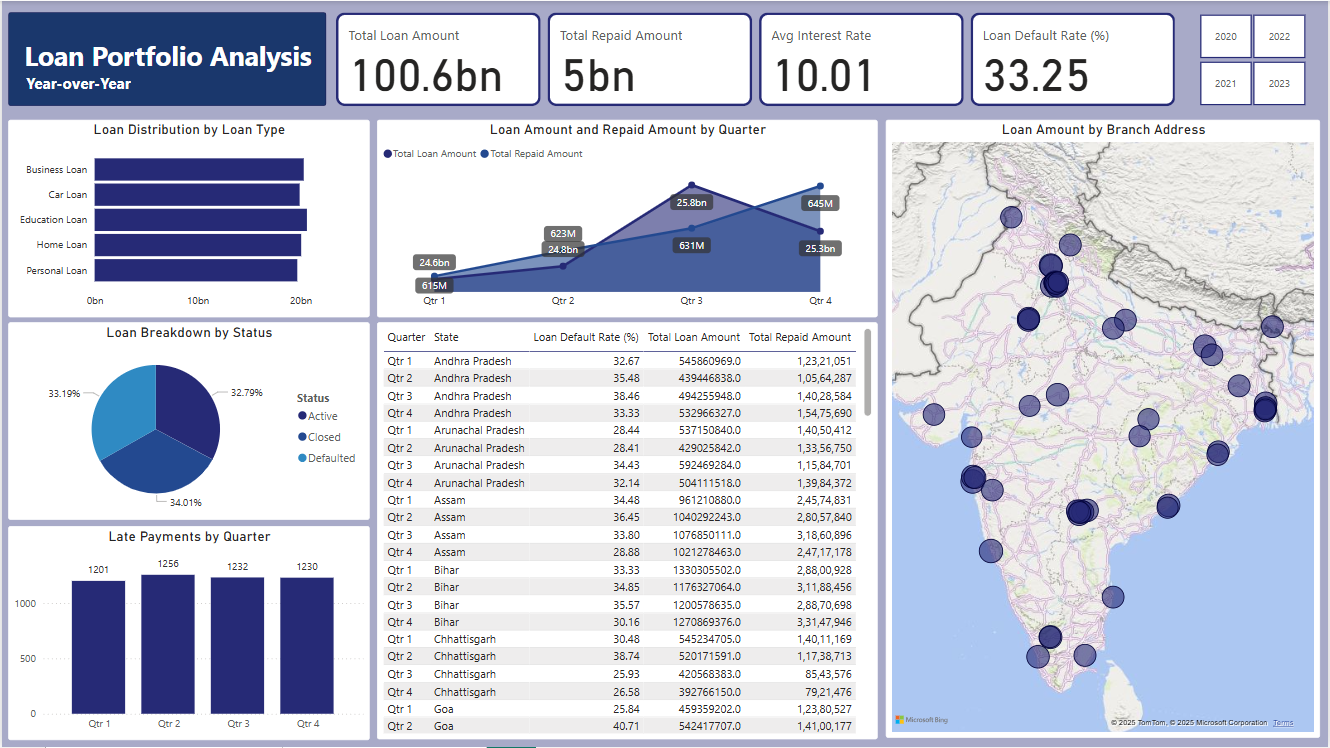

Layout of this report page (visuals, bound fields, positions):
{"tool":"powerbi","page":{"name":"Dashboard (Year-over-Year)","canvas":[1600,900],"ordinal":0},"visuals":[{"type":"cardVisual","fields":{"Data":["Loans.Total Loan Amount","Repayments.Total Repaid Amount","Loans.Avg Interest Rate","Loans.Loan Default Rate (%)"]},"box":[397.4,9.2,1024.1,123.8],"z":0},{"type":"shape","box":[7.6,13.8,383.7,113.1],"z":1000},{"type":"textbox","box":[13.8,39.7,373,62.7],"z":2000},{"type":"slicer","fields":{"Values":["Loans.Start_Date.Variation.Date Hierarchy.Year"]},"box":[1418.5,9.2,177.3,123.8],"z":3000},{"type":"clusteredBarChart","title":"Loan Distribution by Loan Type","fields":{"Category":["Loans.Loan_Type","Loans.Start_Date.Variation.Date Hierarchy.Quarter"],"Y":["Loans.Total Loan Amount"]},"box":[7.6,143.7,435.6,238.5],"z":4000},{"type":"pieChart","title":"Loan Breakdown by Status","fields":{"Category":["Loans.Status","Loans.Start_Date.Variation.Date Hierarchy.Quarter"],"Y":["Sum(Loans.Loan_Amount)"]},"box":[7.6,388.2,435.6,238.5],"z":5000},{"type":"map","title":"Loan Amount by Branch Address","fields":{"Category":["Branches.Address"],"Size":["Loans.Total Loan Amount"]},"box":[1066.9,143.7,524.3,745.9],"z":6000},{"type":"columnChart","fields":{"Category":["Loans.Start_Date.Variation.Date Hierarchy.Quarter"],"Y":["Sum(Repayments.Late_Payment_Flag)"]},"box":[7.6,632.8,435.6,258.3],"z":7000},{"type":"tableEx","fields":{"Values":["Loans.Start_Date.Variation.Date Hierarchy.Quarter","Branches.State","Loans.Loan Default Rate (%)","Loans.Total Loan Amount","Repayments.Total Repaid Amount"]},"box":[452.4,388.2,603.8,502.9],"z":8000},{"type":"areaChart","title":"Loan Amount and Repaid Amount by Quarter","fields":{"Y":["Loans.Total Loan Amount"],"Y2":["Repayments.Total Repaid Amount"],"Category":["Loans.Start_Date.Variation.Date Hierarchy.Quarter"]},"box":[452.4,143.7,603.8,238.5],"z":9000},{"type":"textbox","box":[24.1,81.4,170.4,40.7],"z":10000}]}

Visuals, with their boxes in screenshot pixels (x1, y1, x2, y2), scaled from the page's 1600x900 canvas onto the 1330x748 screenshot:
cardVisual - Loans.Total Loan Amount x Repayments.Total Repaid Amount: bbox=[330, 8, 1182, 111]
shape: bbox=[6, 11, 325, 105]
textbox: bbox=[11, 33, 322, 85]
slicer - Loans.Start_Date.Variation.Date Hierarchy.Year: bbox=[1179, 8, 1327, 111]
"Loan Distribution by Loan Type" clusteredBarChart: bbox=[6, 119, 368, 318]
"Loan Breakdown by Status" pieChart: bbox=[6, 323, 368, 521]
"Loan Amount by Branch Address" map: bbox=[887, 119, 1323, 739]
columnChart - Loans.Start_Date.Variation.Date Hierarchy.Quarter x Sum(Repayments.Late_Payment_Flag): bbox=[6, 526, 368, 741]
tableEx - Loans.Start_Date.Variation.Date Hierarchy.Quarter x Branches.State: bbox=[376, 323, 878, 741]
"Loan Amount and Repaid Amount by Quarter" areaChart: bbox=[376, 119, 878, 318]
textbox: bbox=[20, 68, 162, 101]
